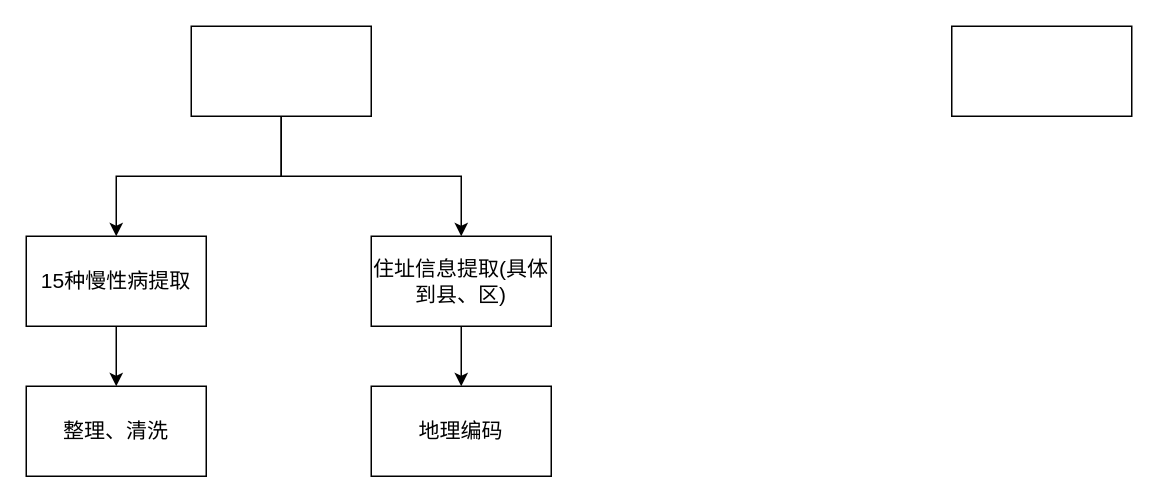
The diagram is 1158 pixels wide and 503 high, and some of its shapes have lost their labels. Each missing label, with the centre of its shape:
CHARLS数据库: (x=280, y=70)
高分辨率污染物数据集: (x=1041, y=70)
